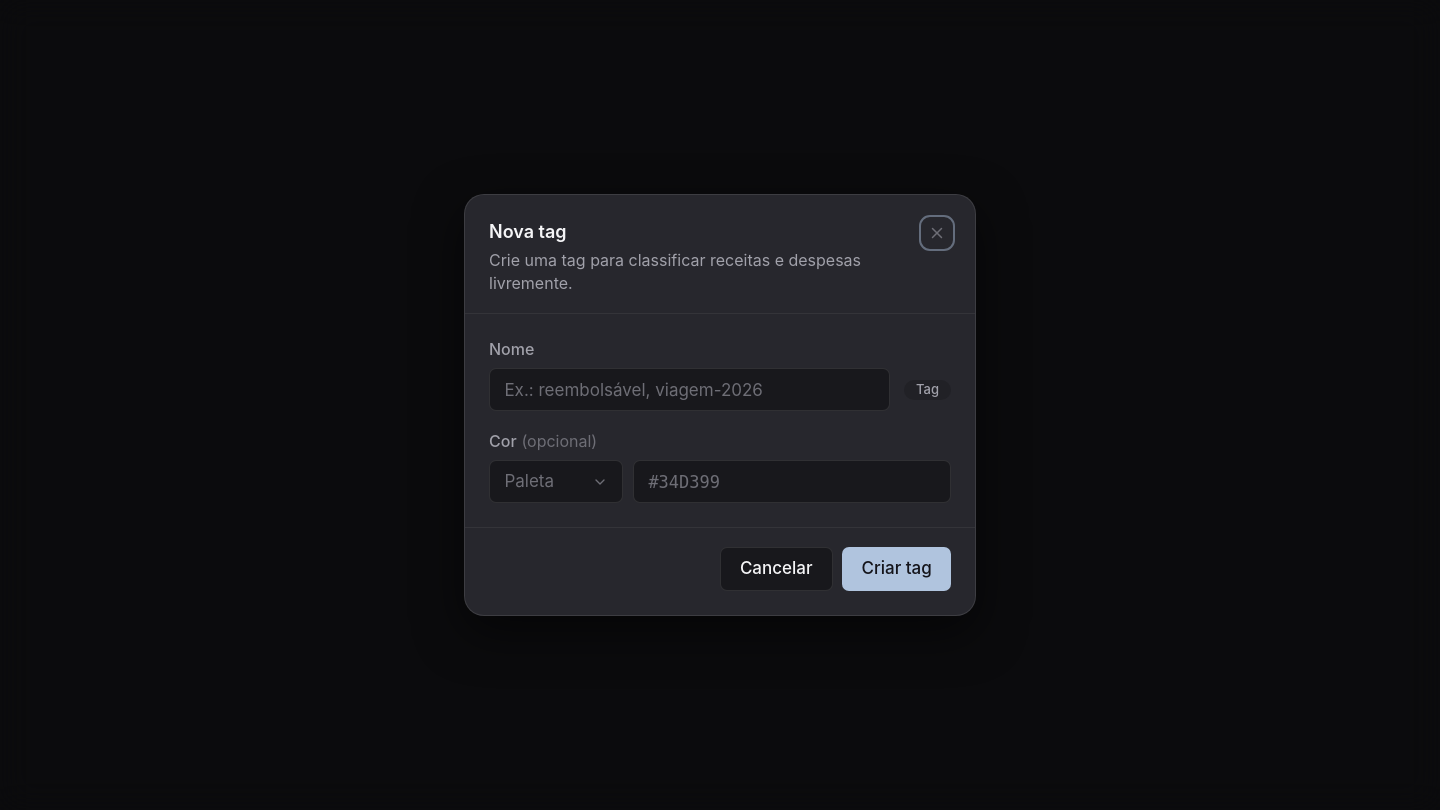
Test: TagFormDialog › mapeia erro 422 da API para o campo correspondente
Type "duplicada" into the field labelled "Nome". click: (689,390)
box: [489,368,890,411]
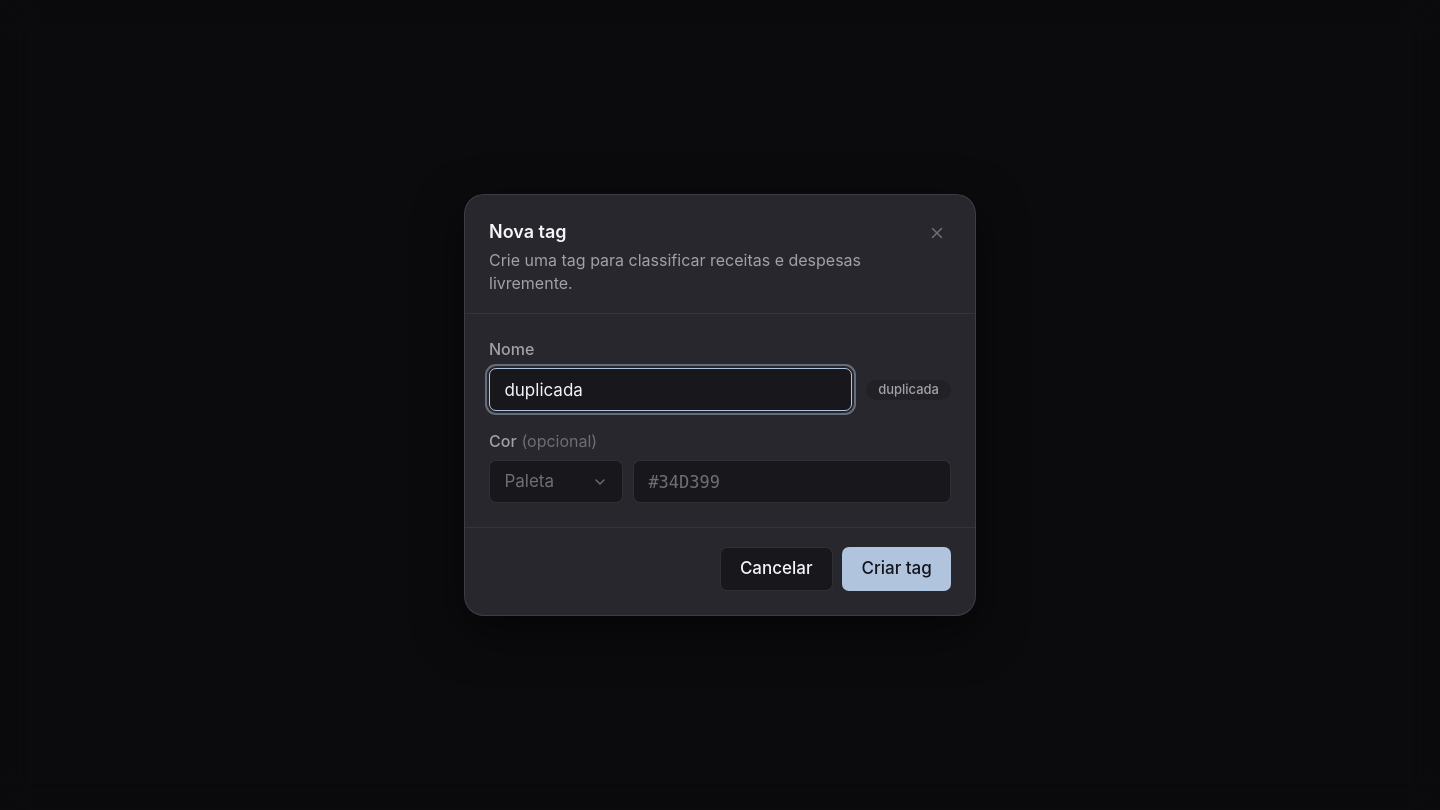
Click the button "Criar tag". click: (897,569)
box: [842,547,951,590]
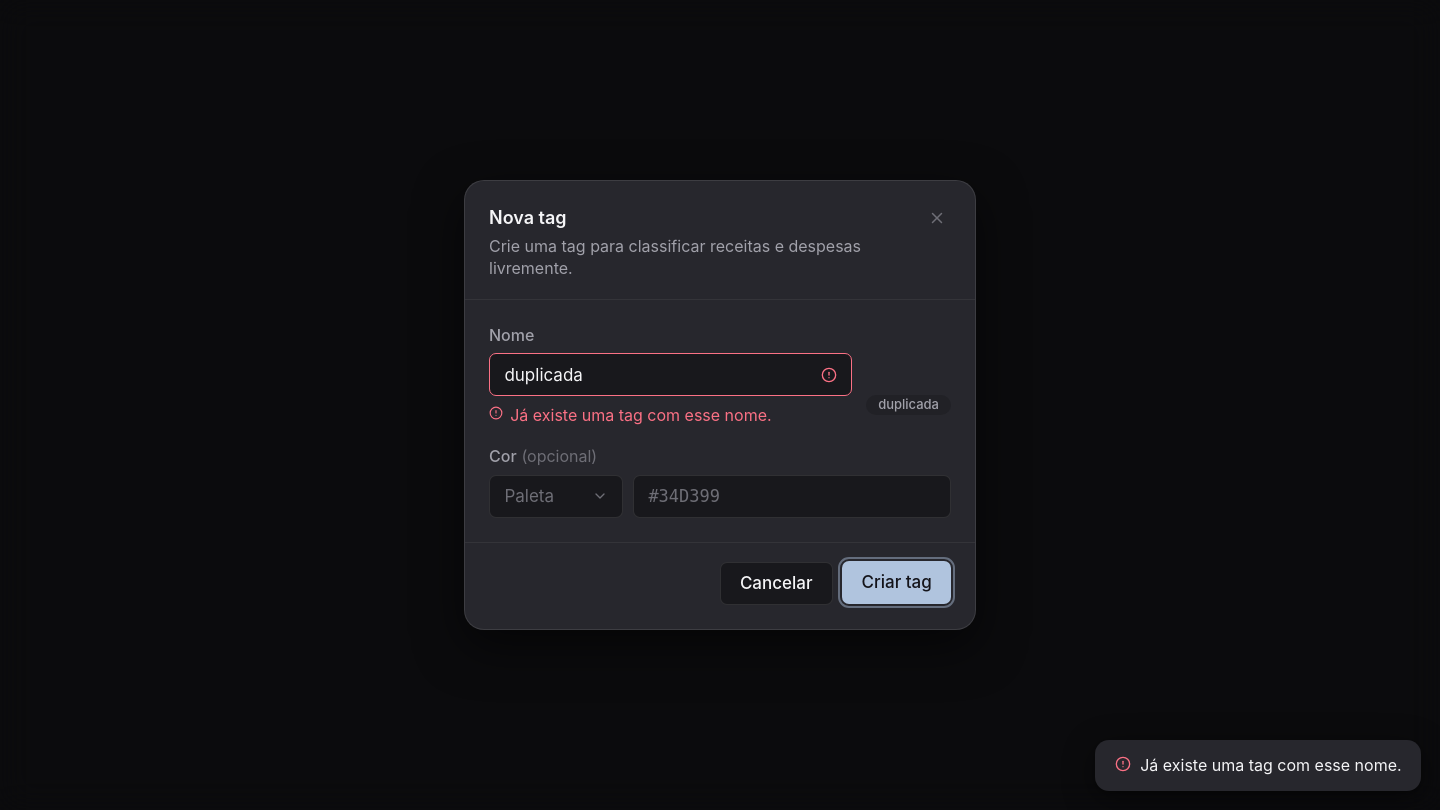
Expected: the message "Já existe uma tag com esse nome." next to "duplicada" is shown, [510,405,772,425]
